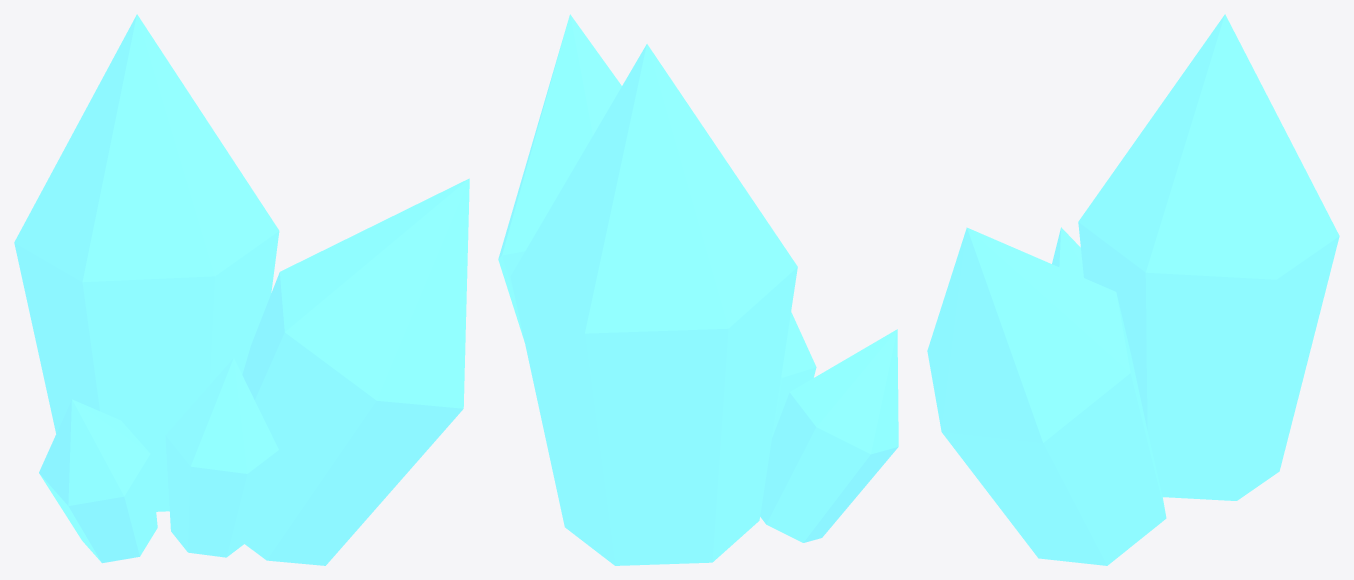
Rendered from Crystal_cluster 1_4_2big_2small.fbx.
The picture shows the model from 3 angles, left to right: view 1: azimuth 30°, elevation 25°; view 2: azimuth 150°, elevation 25°; view 3: azimuth 270°, elevation 25°; orthographic projection. The views are drawn at different scales.
Visible parts, largest first — view 1: Cube; view 2: Cube; view 3: Cube.
Part boxes in pixels (x1,y1,x2,y2): Cube: (14,14,469,565); Cube: (498,14,898,565); Cube: (927,14,1339,565).
Size of the model in its own units: 332 by 420 by 315.
